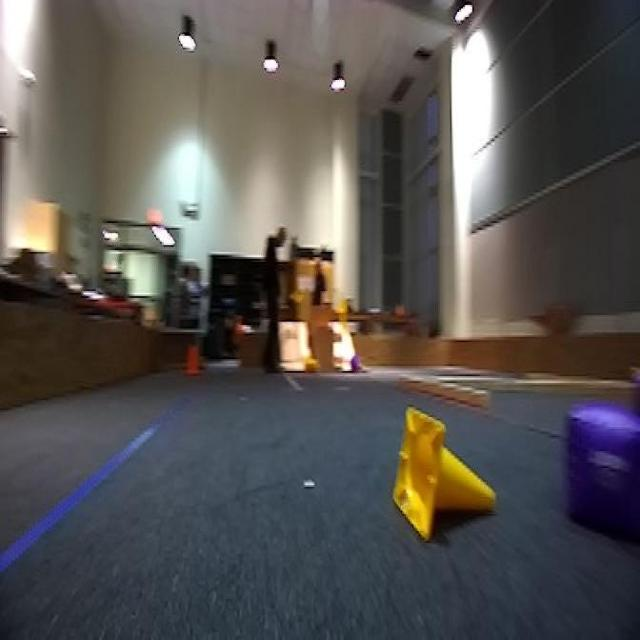frc_cone: (391, 408, 498, 544), (301, 356, 319, 376)
frc_cube: (563, 402, 636, 526), (350, 351, 363, 371)
